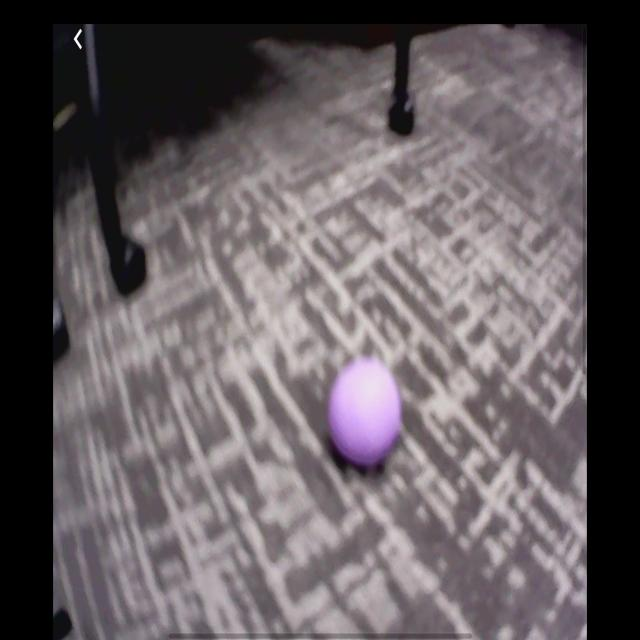ball: (330, 362, 402, 467)
